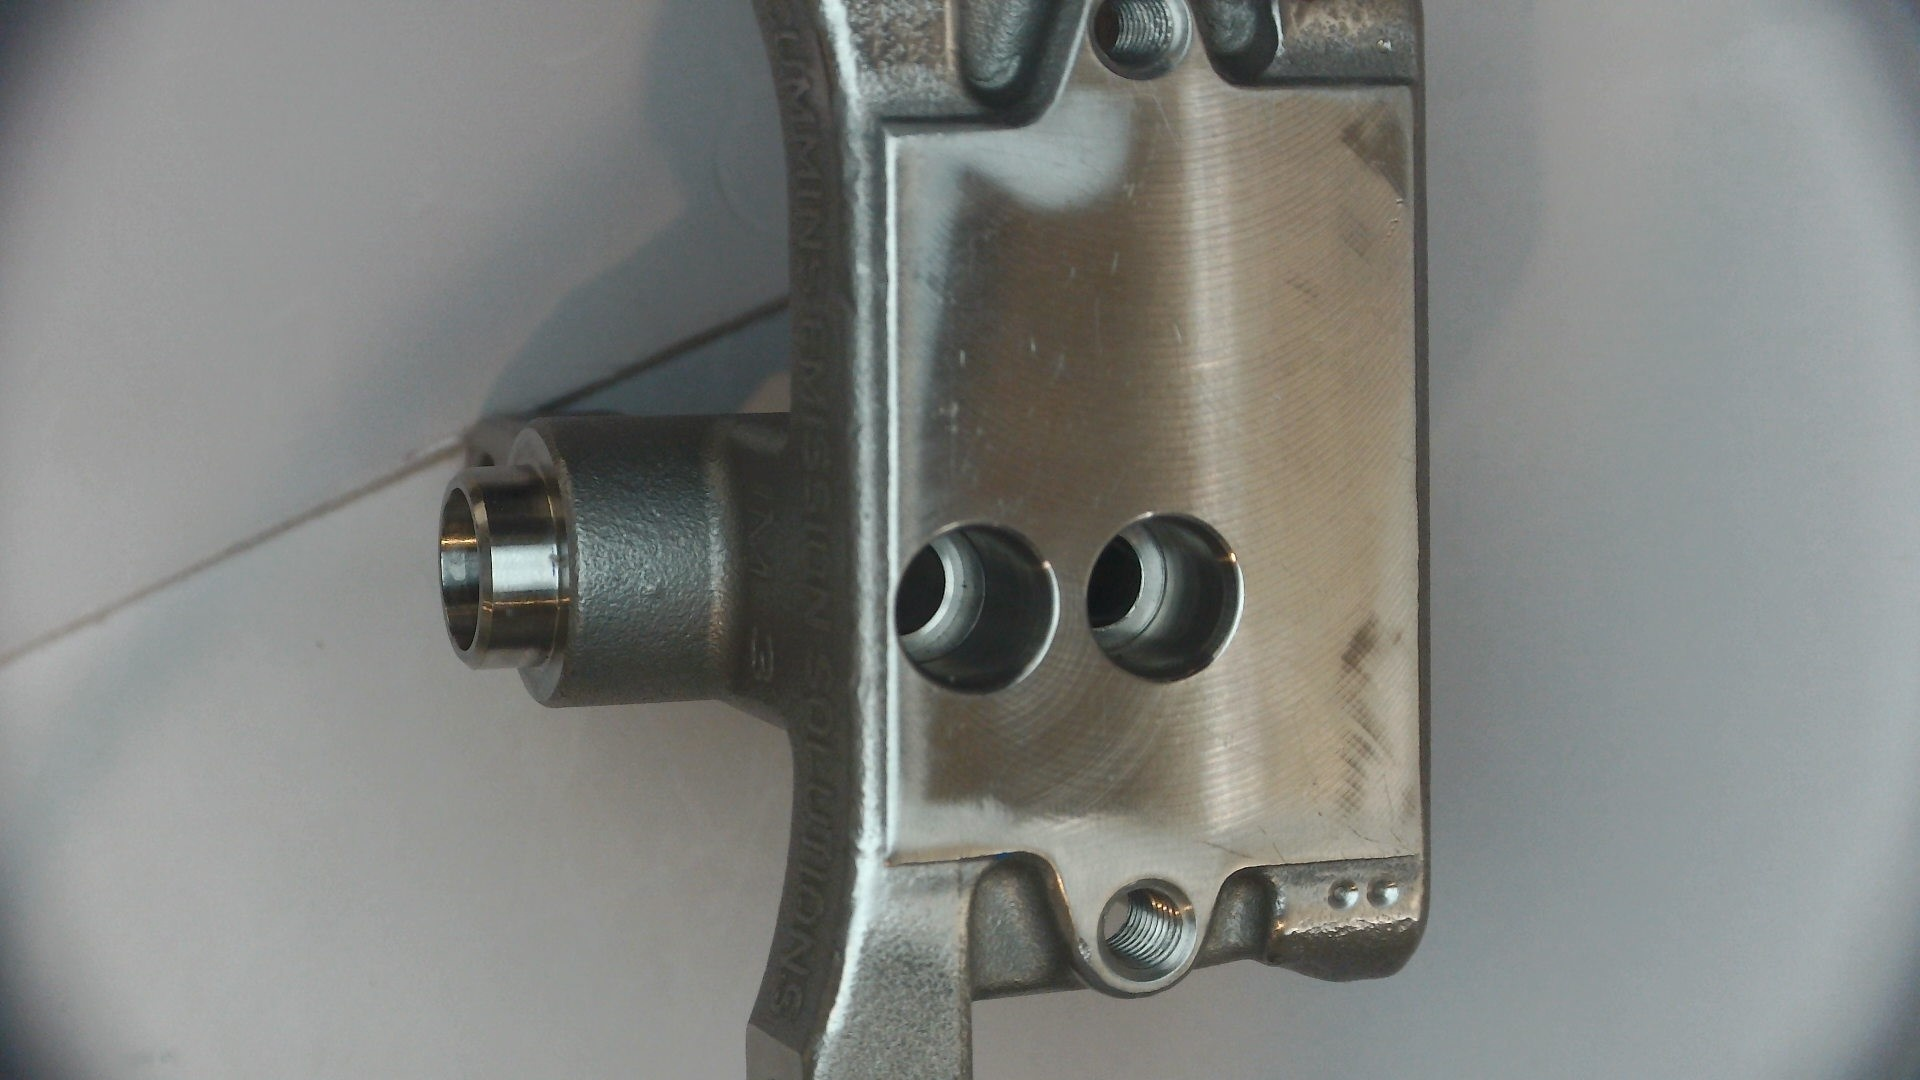thread_absence: (889, 510, 1064, 702), (1079, 505, 1249, 692)
thread_presence: (1102, 885, 1185, 971), (1091, 1, 1174, 73)
